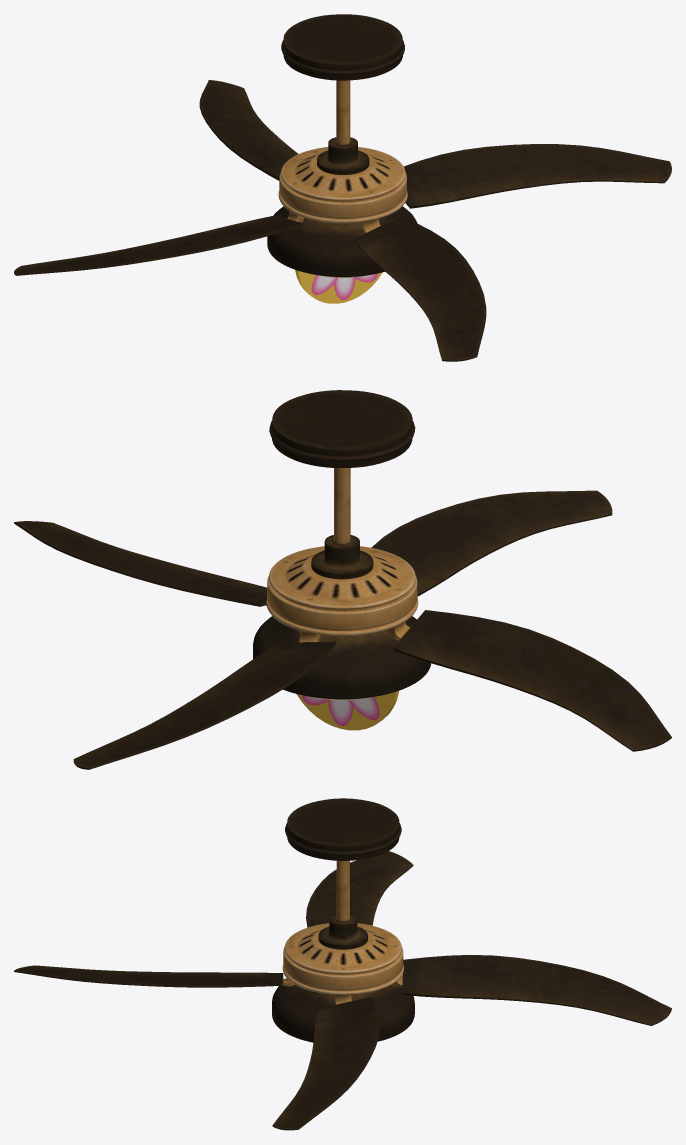
File: nyb_dogday_fan.glb
The picture shows the model from 3 angles, top to bottom: view 1: azimuth 30°, elevation 25°; view 2: azimuth 150°, elevation 25°; view 3: azimuth 270°, elevation 25°; orthographic projection. The views are drawn at different scales.
Parts seen in each view (by area): view 1: ceiling_fan, Cylinder, add_eyeflower.png; view 2: ceiling_fan, Cylinder, add_eyeflower.png; view 3: ceiling_fan.
Part boxes in pixels (x1,y1,x2,y2): ceiling_fan: (14,14,671,361); Cylinder: (295,270,382,303); add_eyeflower.png: (311,273,377,299); ceiling_fan: (14,390,671,769); Cylinder: (296,691,398,730); add_eyeflower.png: (302,695,379,725); ceiling_fan: (14,798,671,1130).
Bounding box in the file's own units: 1.46 × 0.6038 × 1.46.
3 materials, 2 textured.
